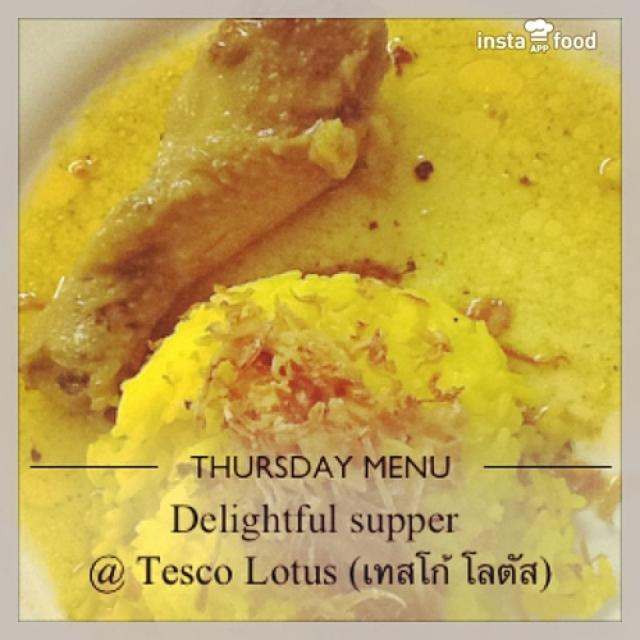米饭主食: (27, 28, 616, 613)
